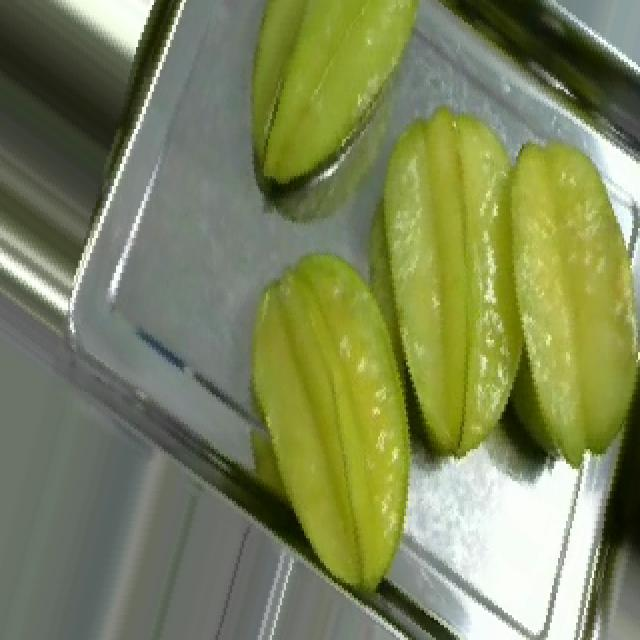fruit: (196, 213, 556, 613), (342, 84, 640, 496), (202, 0, 458, 221)
